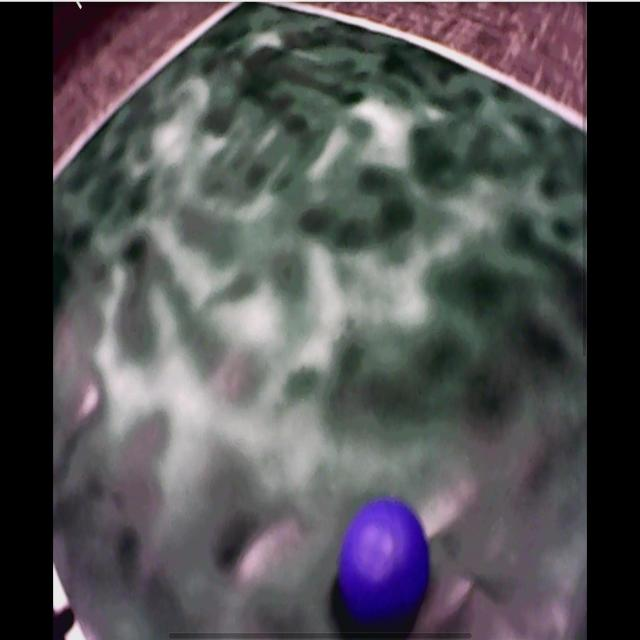ball: (342, 500, 431, 626)
